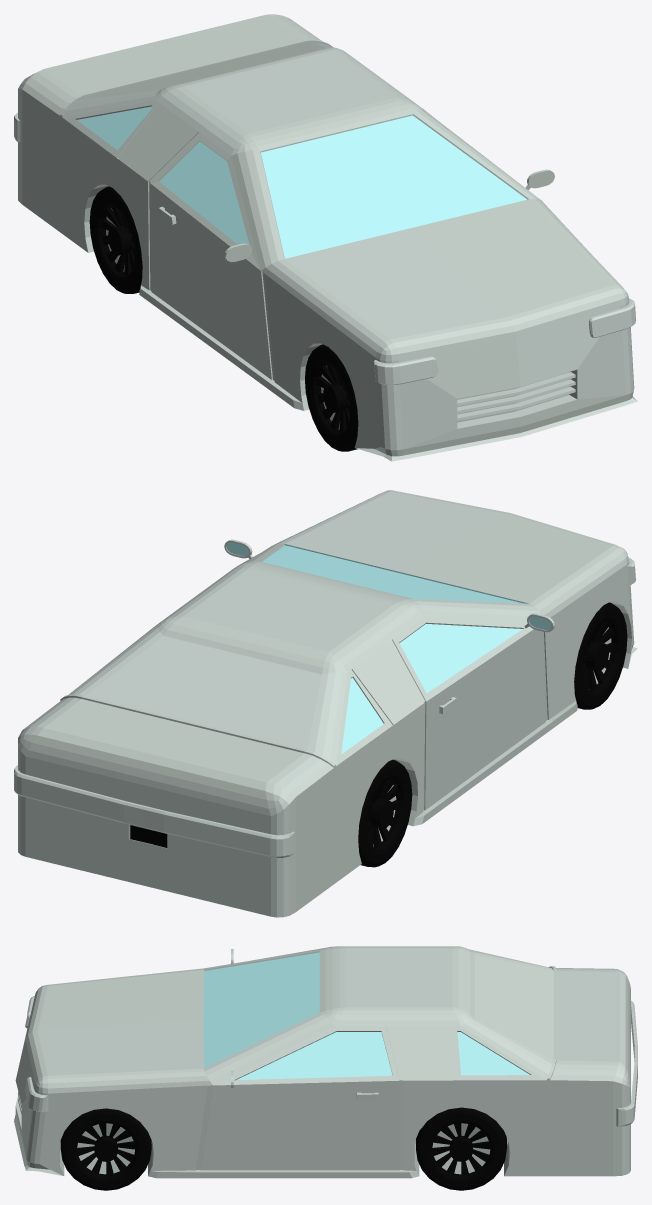
The model's file is Car_Supra.fbx.
3 views of the same model, one above another, from view 1: azimuth 30°, elevation 25°; view 2: azimuth 150°, elevation 25°; view 3: azimuth 270°, elevation 25° (orthographic). The views are drawn at different scales.
Visible parts, largest first — view 1: Cube; view 2: Cube; view 3: Cube.
Part boxes in pixels (<box>): Cube: <box>14,14,637,461</box>; Cube: <box>14,490,637,917</box>; Cube: <box>14,946,637,1190</box>.
Size of the model in its own units: 201 by 113 by 401.
